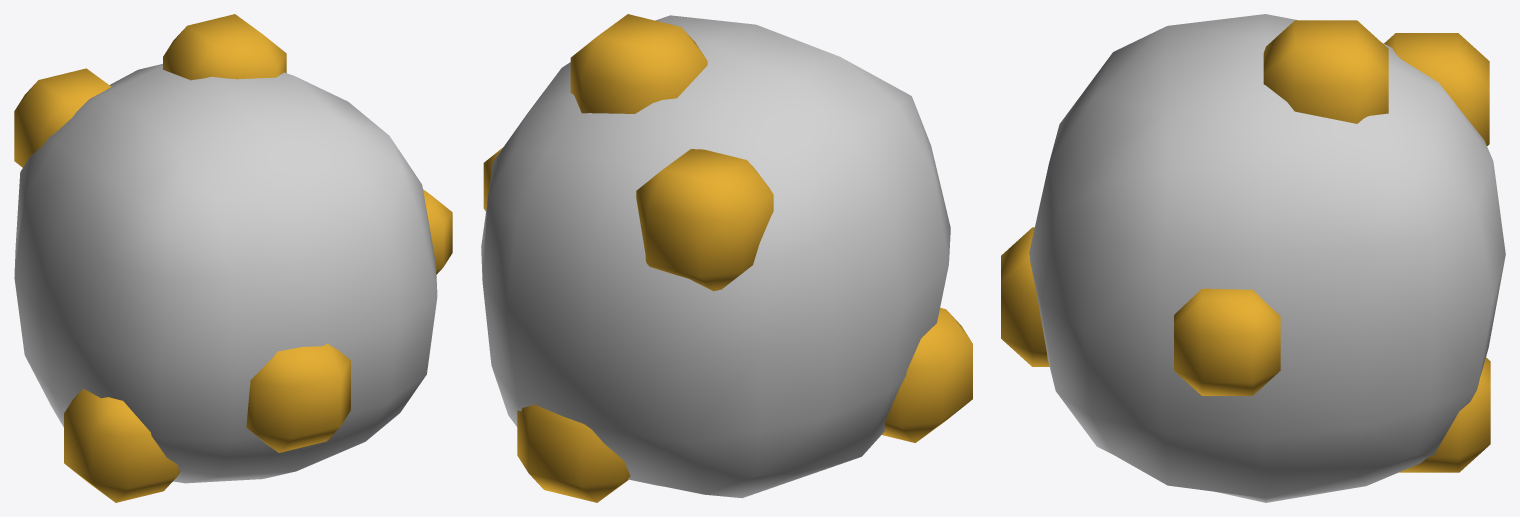
The model's file is GemRock01.fbx.
3 renders of one model, left to right at view 1: azimuth 30°, elevation 25°; view 2: azimuth 150°, elevation 25°; view 3: azimuth 270°, elevation 25°, orthographic. The views are drawn at different scales.
Parts seen in each view (by area): view 1: GemRock_01, Gem4, Gem3, Gem5, Gem2, Gem1; view 2: GemRock_01, Gem2, Gem5, Gem6, Gem3; view 3: GemRock_01, Gem5, Gem1, Gem2, Gem4, Gem6.
Boxes of the visible parts, <box> form: GemRock_01: <box>14,64,437,483</box>; Gem4: <box>246,343,350,452</box>; Gem3: <box>64,389,180,502</box>; Gem5: <box>163,14,286,80</box>; Gem2: <box>14,68,111,167</box>; Gem1: <box>423,189,452,274</box>; GemRock_01: <box>481,15,950,498</box>; Gem2: <box>636,149,773,291</box>; Gem5: <box>570,14,707,113</box>; Gem6: <box>517,404,630,502</box>; Gem3: <box>882,307,972,442</box>; GemRock_01: <box>1029,14,1505,502</box>; Gem5: <box>1263,20,1388,123</box>; Gem1: <box>1174,288,1280,395</box>; Gem2: <box>1384,33,1489,145</box>; Gem4: <box>1001,227,1049,366</box>; Gem6: <box>1399,357,1490,472</box>.
Bounding box in the file's own units: 28.19 × 27.52 × 28.04.
